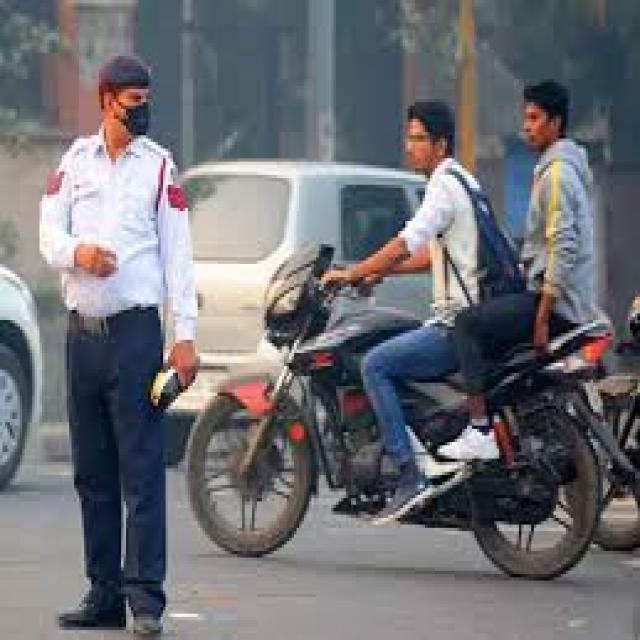No helmet: (394, 97, 476, 186)
